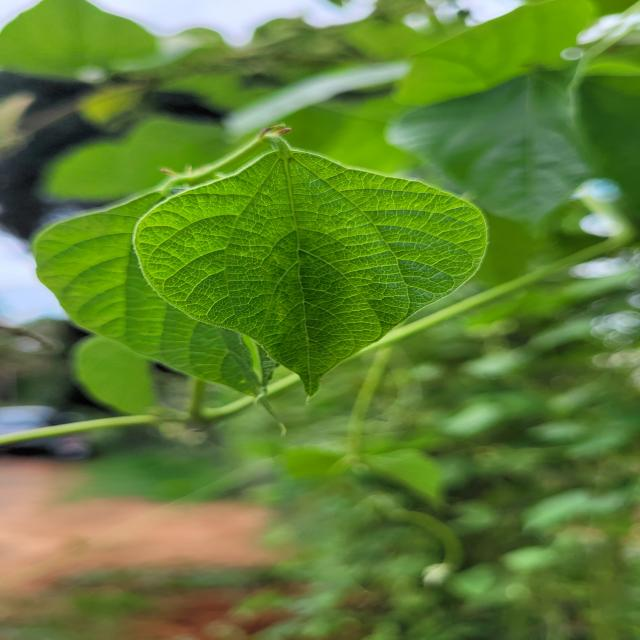Dolicos bean_healthy: (34, 158, 416, 432), (133, 143, 495, 402), (0, 7, 170, 83)
